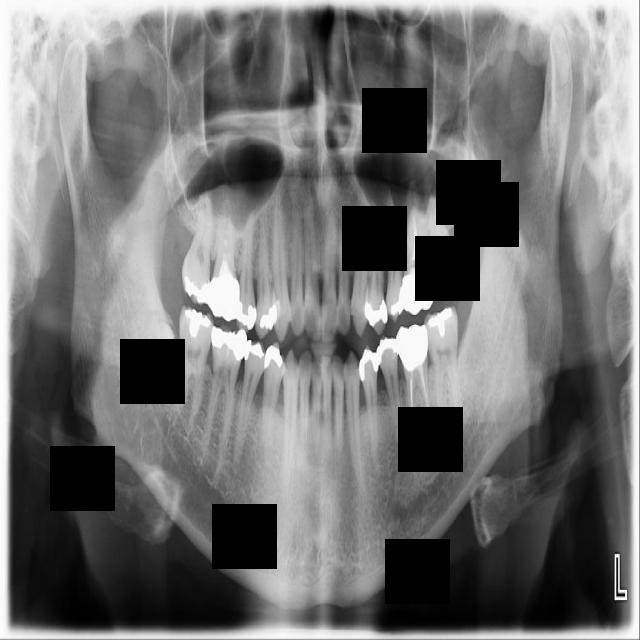52: (417, 304, 469, 360), (202, 320, 250, 374), (428, 243, 464, 300), (393, 322, 433, 373), (176, 305, 217, 352), (206, 273, 242, 324), (399, 270, 436, 317), (360, 282, 391, 338), (182, 251, 210, 308), (261, 342, 287, 391), (375, 335, 400, 379), (358, 346, 380, 391), (235, 293, 258, 336), (243, 339, 267, 380), (272, 295, 292, 342), (255, 298, 274, 340), (385, 284, 404, 322)
73: (401, 357, 439, 443), (403, 192, 434, 278), (610, 557, 618, 571)
BioHorizons Implant: (425, 189, 463, 301)
Blue Sky Bio Implant: (423, 306, 461, 423)
Caries: (181, 193, 214, 305)
Implant: (175, 305, 215, 429)
Keystone Dental Implant: (129, 317, 178, 399)
